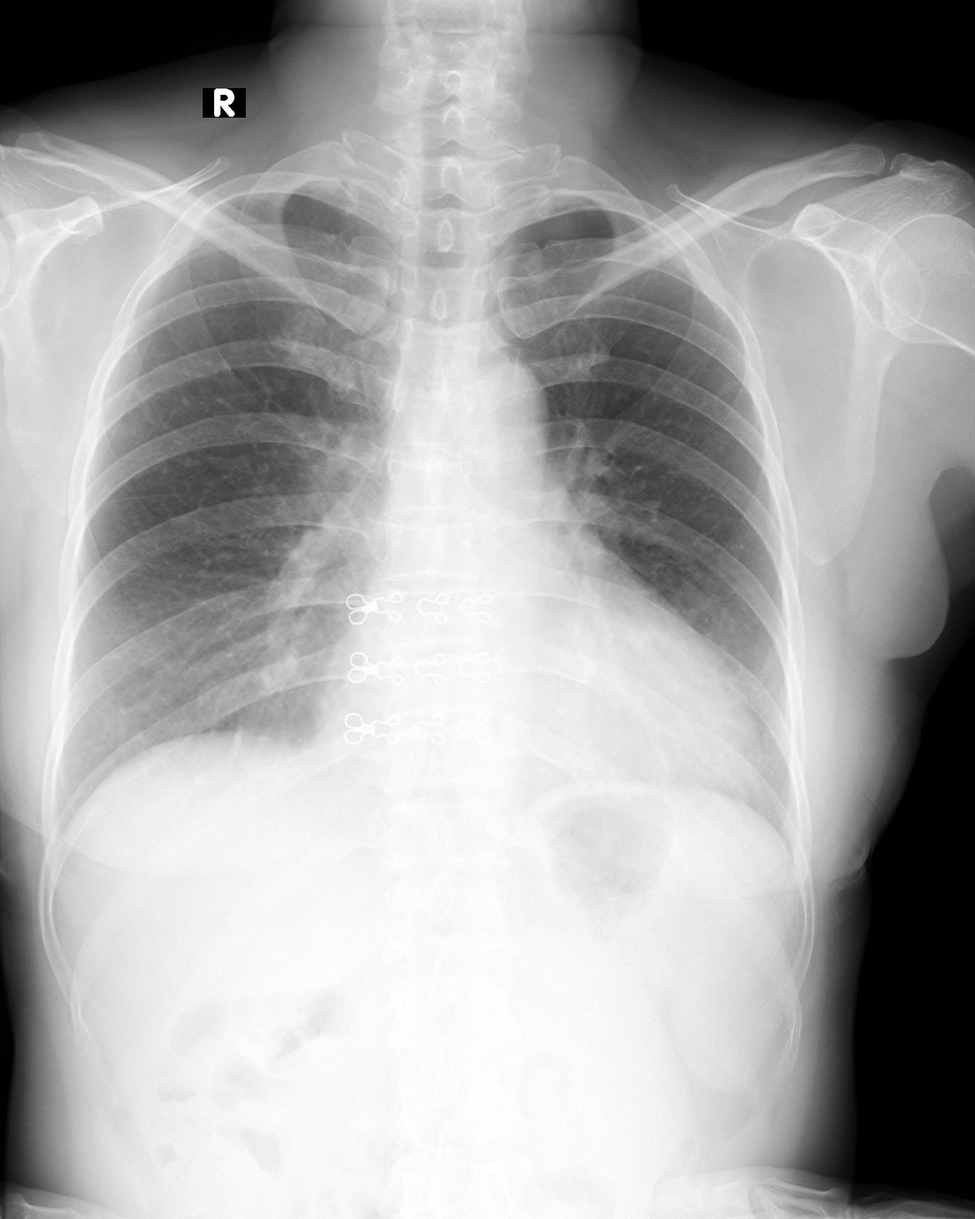Aortic enlargement: (443, 349, 550, 461)
Cardiomegaly: (311, 624, 762, 805)
